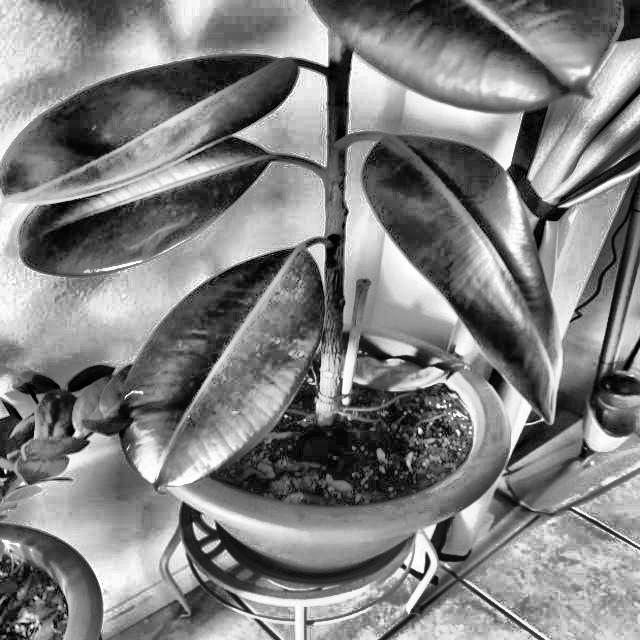plants: (12, 0, 606, 533)
